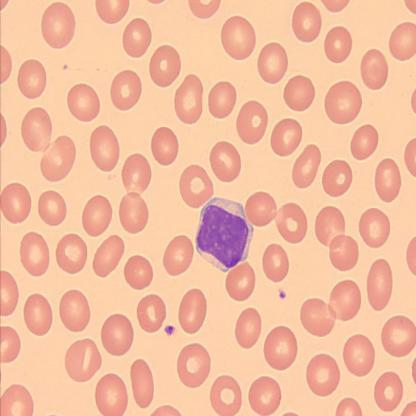Lymphocyte: (195, 196, 253, 274)
